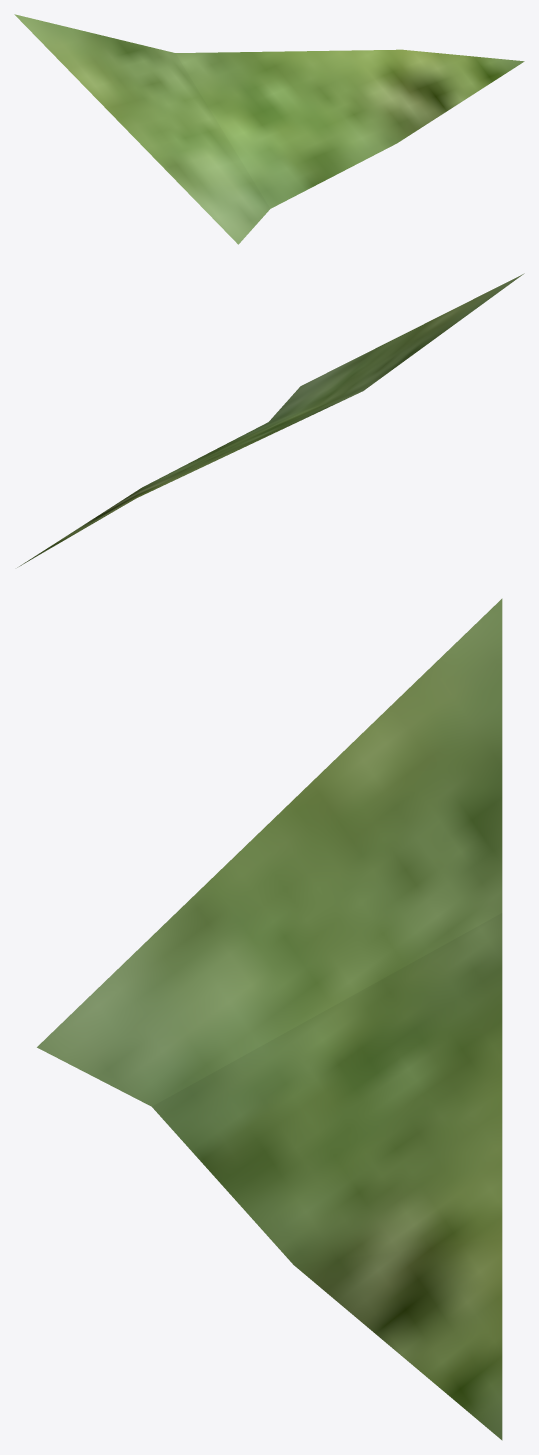
The picture shows the model from 3 angles, top to bottom: view 1: azimuth 30°, elevation 25°; view 2: azimuth 210°, elevation 25°; view 3: azimuth 270°, elevation 25°; orthographic projection. The views are drawn at different scales.
Bounding box in the file's own units: 0.9668 × 0.3107 × 0.3815.
Materials: 1 (1 with a texture image).
